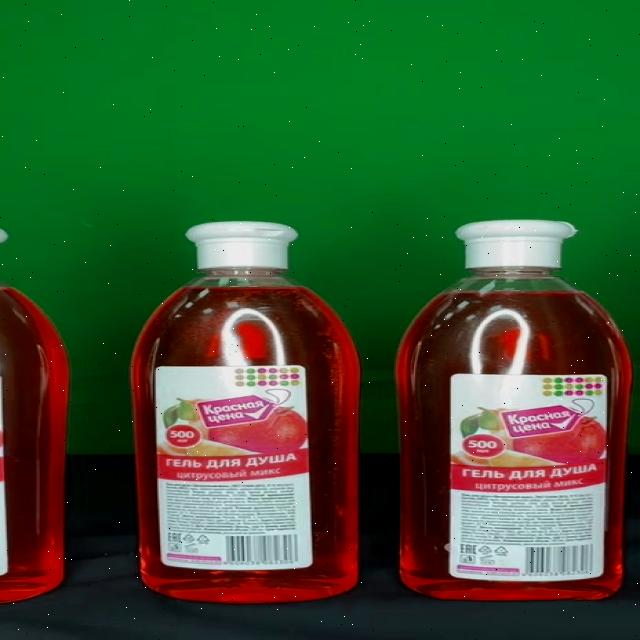Bottle: (394, 219, 631, 600), (130, 222, 362, 604)
Cap: (453, 220, 576, 268), (185, 221, 299, 269)
